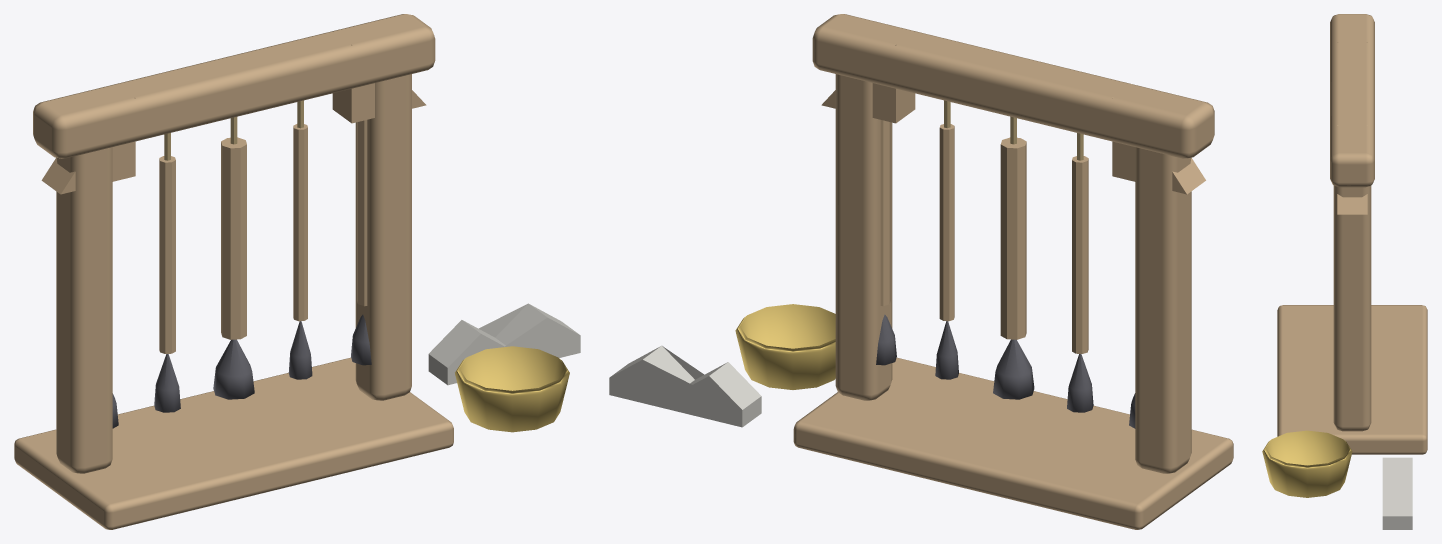
Rendered from brush-stand.glb.
3 views of the same model, side by side, from view 1: azimuth 30°, elevation 25°; view 2: azimuth 150°, elevation 25°; view 3: azimuth 270°, elevation 25° (orthographic). The views are drawn at different scales.
Visible parts, largest first — view 1: calligraphy-brush-stand; view 2: calligraphy-brush-stand; view 3: calligraphy-brush-stand.
Boxes of the visible parts, x1,y1,x2,y2 form: calligraphy-brush-stand: (14, 14, 580, 529); calligraphy-brush-stand: (609, 14, 1233, 529); calligraphy-brush-stand: (1262, 14, 1427, 529).
Bounding box in the file's own units: 0.67 × 0.45 × 0.22.
